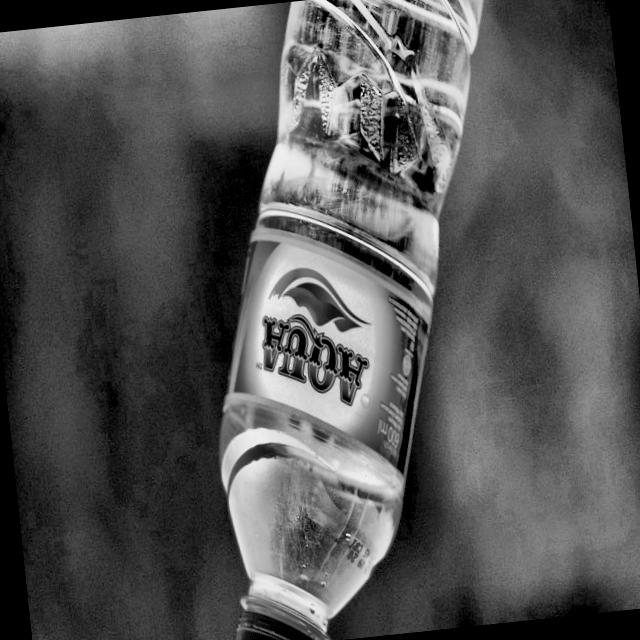waterbottle: (163, 0, 556, 640)
